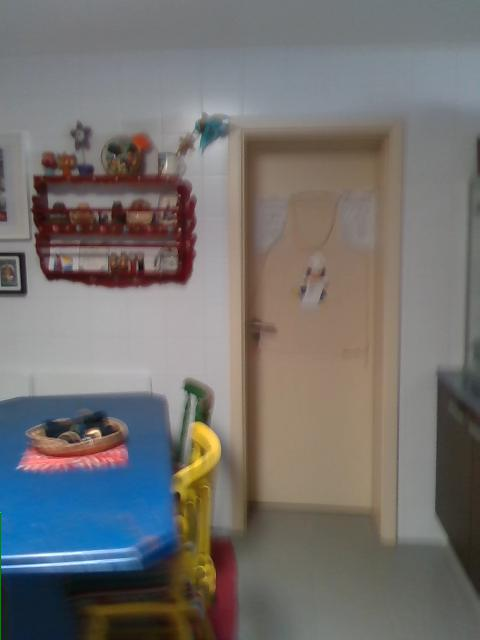door: (244, 133, 380, 508)
